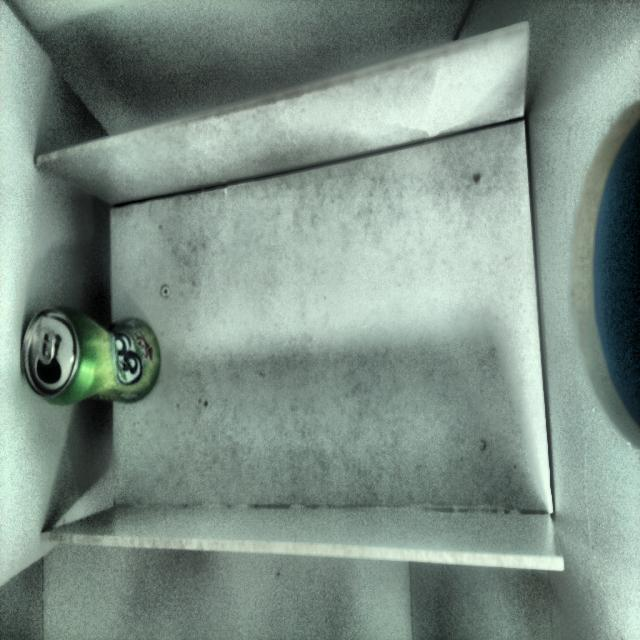Cans: (14, 303, 165, 409)
